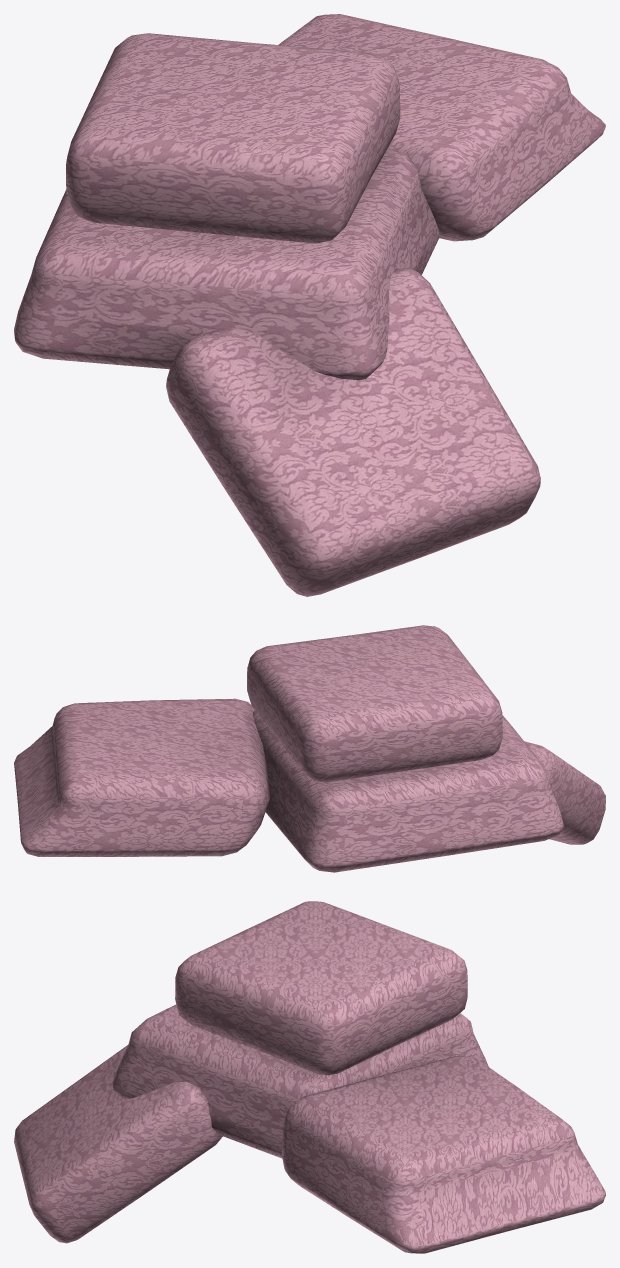
Rendered from p_cushions.glb.
The picture shows the model from 3 angles, top to bottom: view 1: azimuth 30°, elevation 25°; view 2: azimuth 150°, elevation 25°; view 3: azimuth 270°, elevation 25°; orthographic projection. The views are drawn at different scales.
Parts seen in each view (by area): view 1: cushions; view 2: cushions; view 3: cushions.
Boxes of the visible parts, x1,y1,x2,y2 form: cushions: (14,14,605,596); cushions: (14,625,605,872); cushions: (14,901,605,1253).
Bounding box in the file's own units: 1.46 × 0.7217 × 1.48.
1 material, 1 textured.
